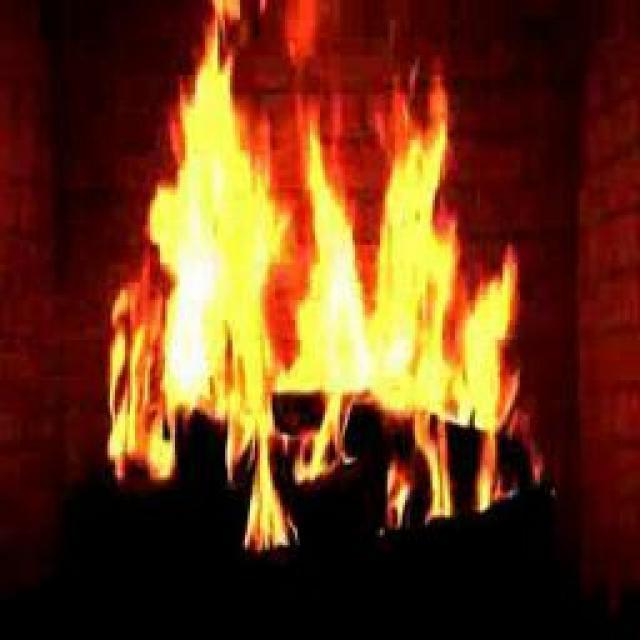Fire: (112, 29, 516, 445)
